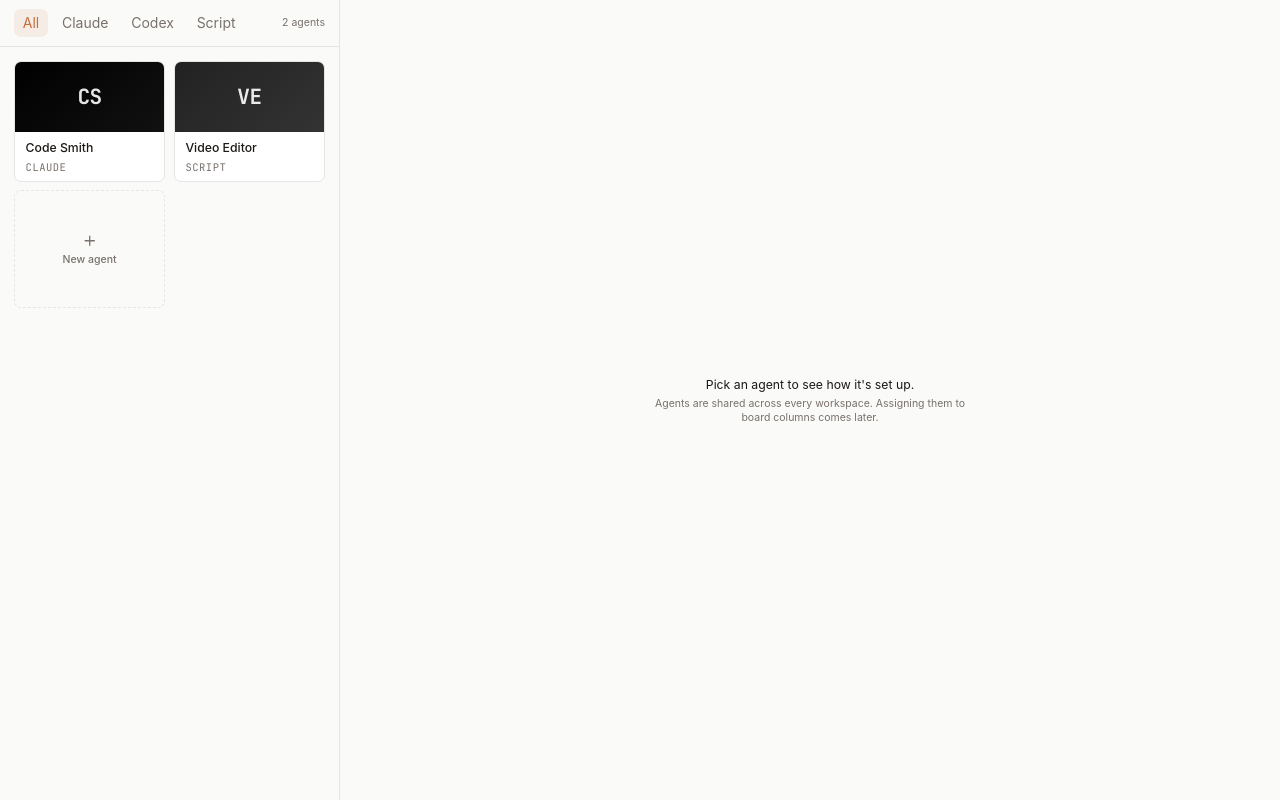
Test case: RosterView › drops the selection when the selected agent is filtered out
Click the button with test id "agent-tile-a1".
click(90, 121)  # box [14,60,165,182]
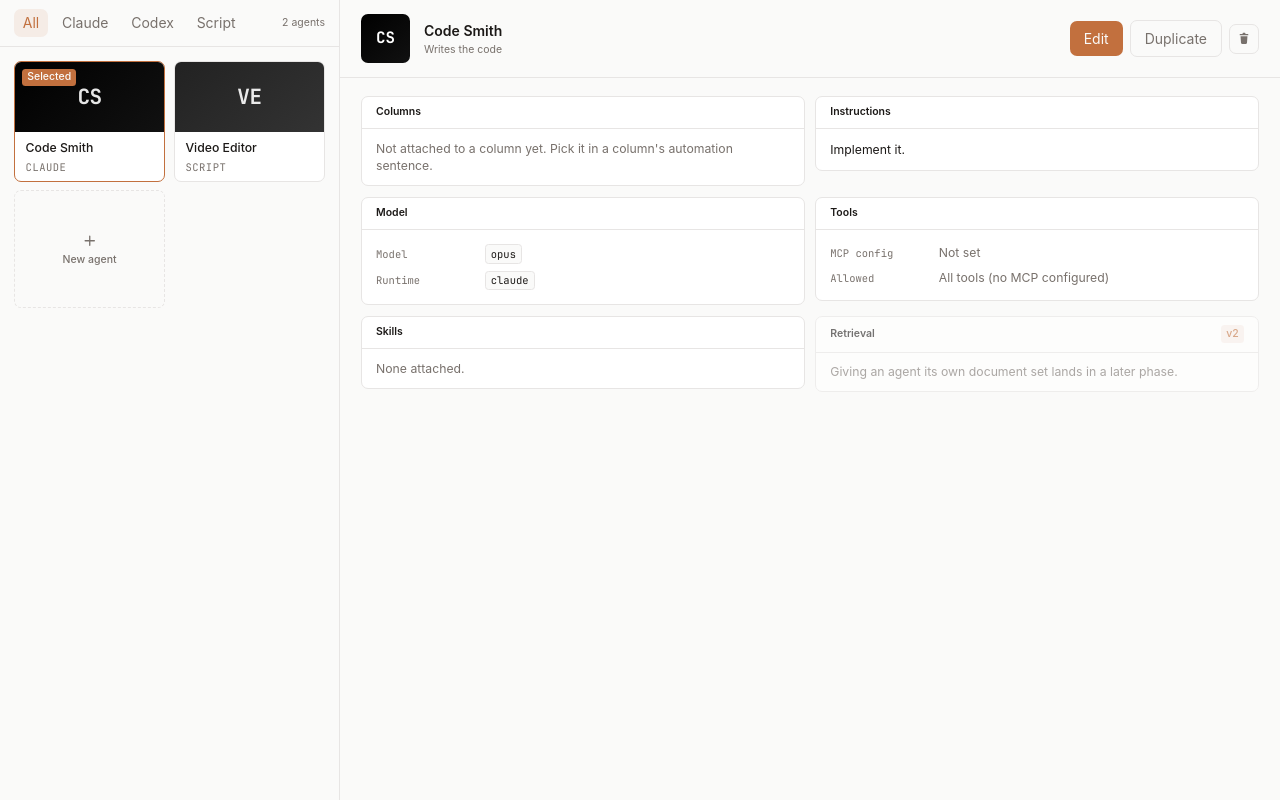
Check: the element with test id "agent-dossier" is shown, box [340,0,1279,392]
Click the button with test id "roster-filter-script".
click(216, 23)  # box [188,9,244,37]
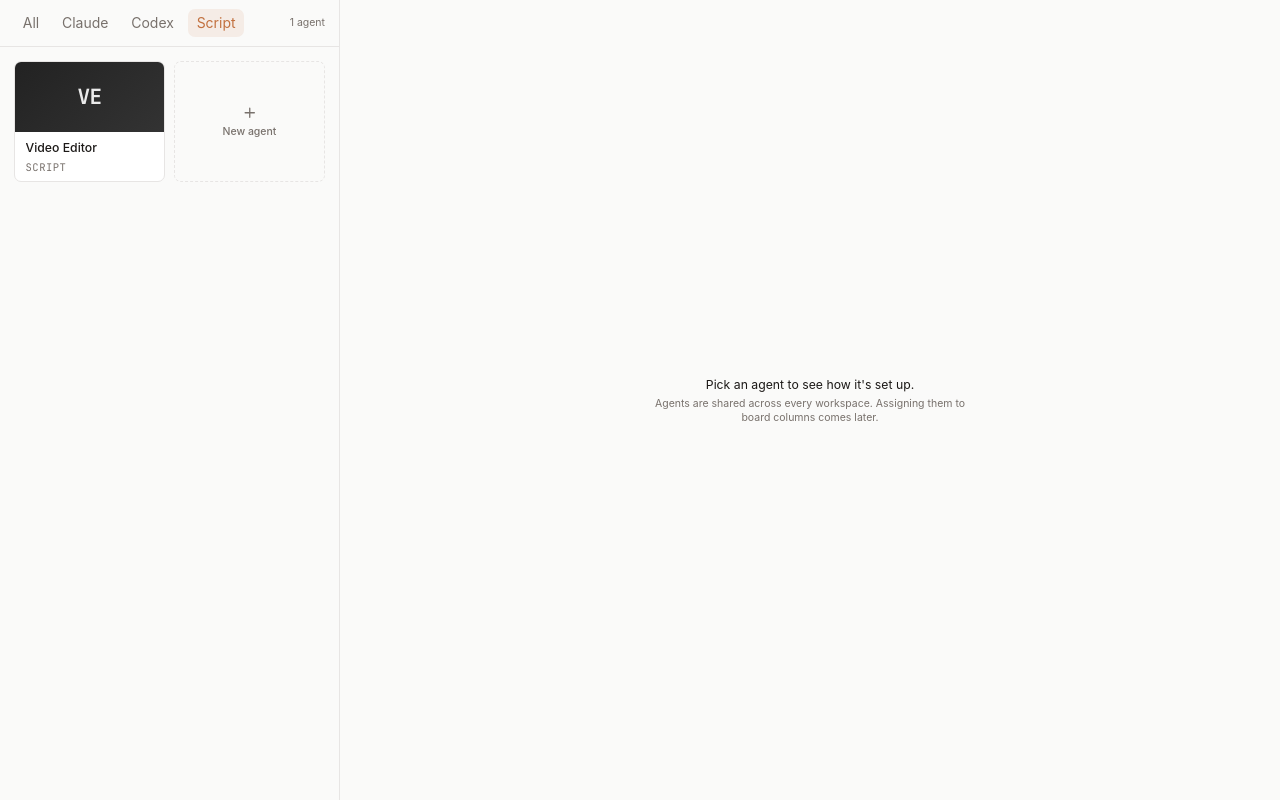
Check: the element with test id "agent-dossier" is gone
